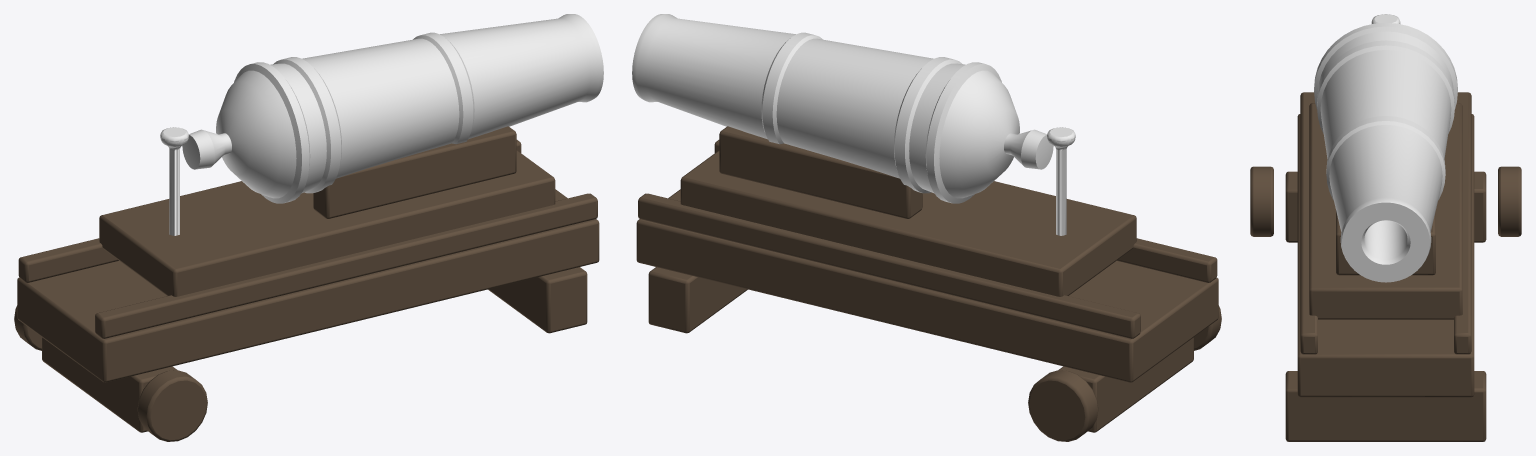
The model's file is SM_MOD_CARRONADE_A.fbx.
3 renders of one model, left to right at view 1: azimuth 30°, elevation 25°; view 2: azimuth 150°, elevation 25°; view 3: azimuth 270°, elevation 25°, orthographic.
Parts seen in each view (by area): view 1: MOD_CARRONADE_A, MOD_CARRONADE_A_BARREL; view 2: MOD_CARRONADE_A, MOD_CARRONADE_A_BARREL; view 3: MOD_CARRONADE_A, MOD_CARRONADE_A_BARREL.
Part boxes in pixels (left/top/right/bottom): MOD_CARRONADE_A: left=14, top=126, right=599, bottom=441; MOD_CARRONADE_A_BARREL: left=182, top=14, right=603, bottom=203; MOD_CARRONADE_A: left=636, top=126, right=1221, bottom=441; MOD_CARRONADE_A_BARREL: left=632, top=14, right=1053, bottom=203; MOD_CARRONADE_A: left=1250, top=14, right=1521, bottom=441; MOD_CARRONADE_A_BARREL: left=1314, top=22, right=1457, bottom=282.
Size of what is drawn, in the model's own units: 2.05 by 1.07 by 0.92.
